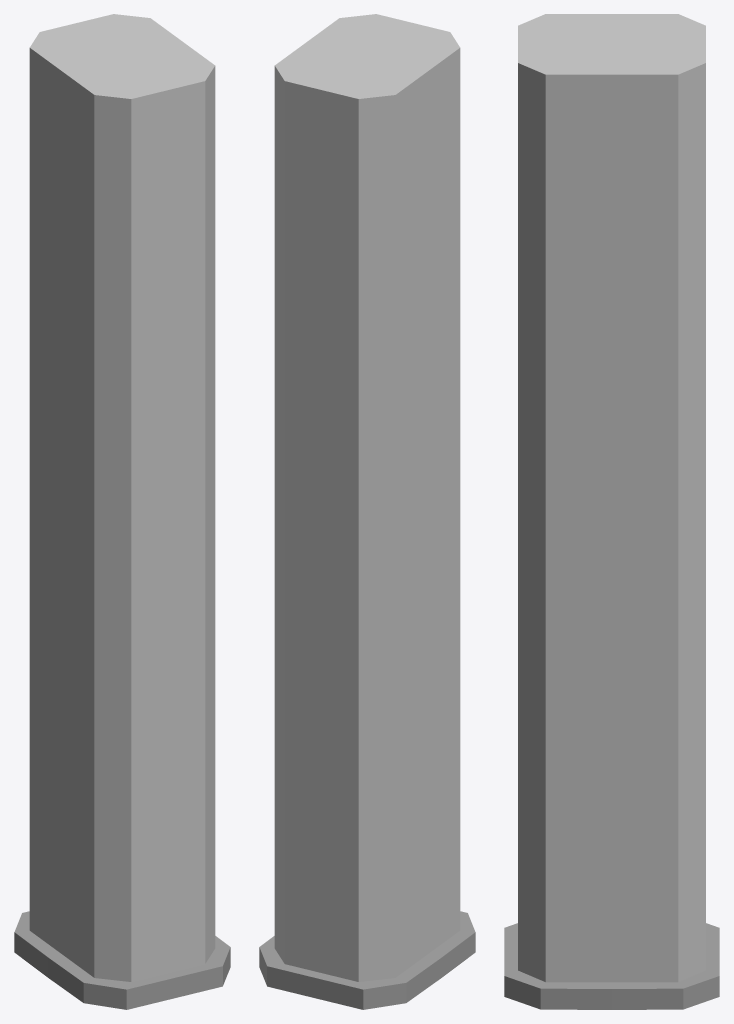
Rendered from Columna.fbx.
3 renders of one model, left to right at view 1: azimuth 30°, elevation 25°; view 2: azimuth 150°, elevation 25°; view 3: azimuth 270°, elevation 25°, orthographic. The views are drawn at different scales.
Parts seen in each view (by area): view 1: Cube; view 2: Cube; view 3: Cube.
Boxes of the visible parts, x1,y1,x2,y2 form: Cube: (14, 14, 230, 1009); Cube: (259, 14, 475, 1009); Cube: (504, 14, 719, 1009).
Size of the model in its own units: 51.5 by 300 by 63.
1 material, 1 textured.
